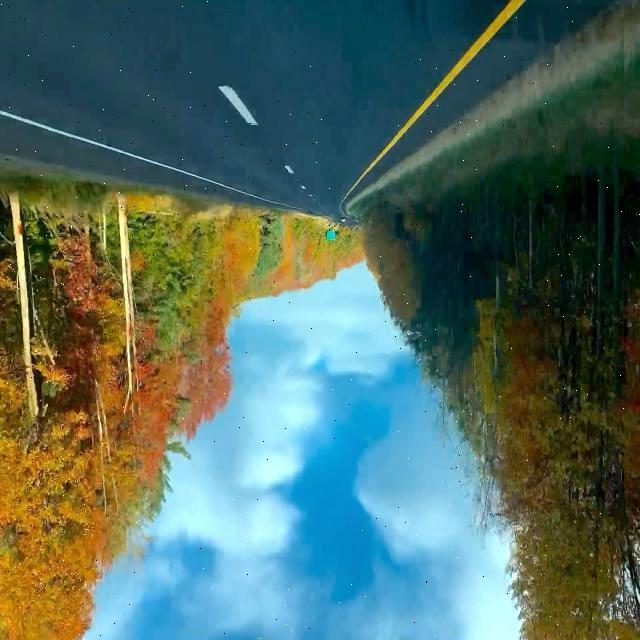lane: (341, 1, 526, 210), (0, 109, 300, 209), (219, 85, 257, 125)
road: (1, 1, 506, 218), (361, 1, 617, 187)
